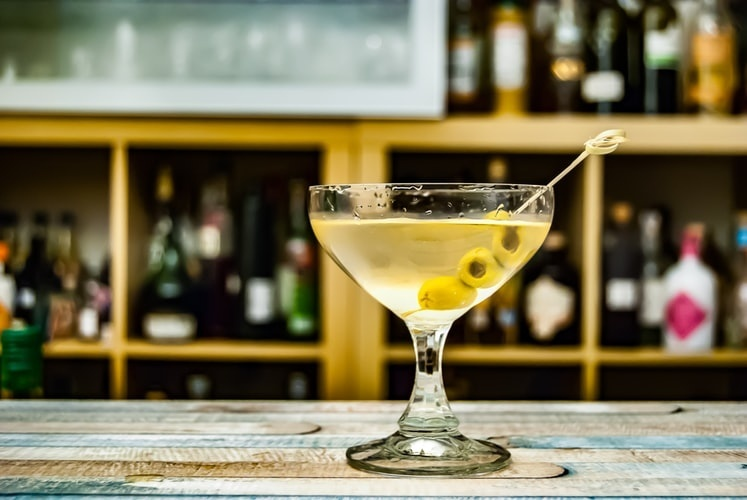whiskey: (301, 179, 567, 472)
